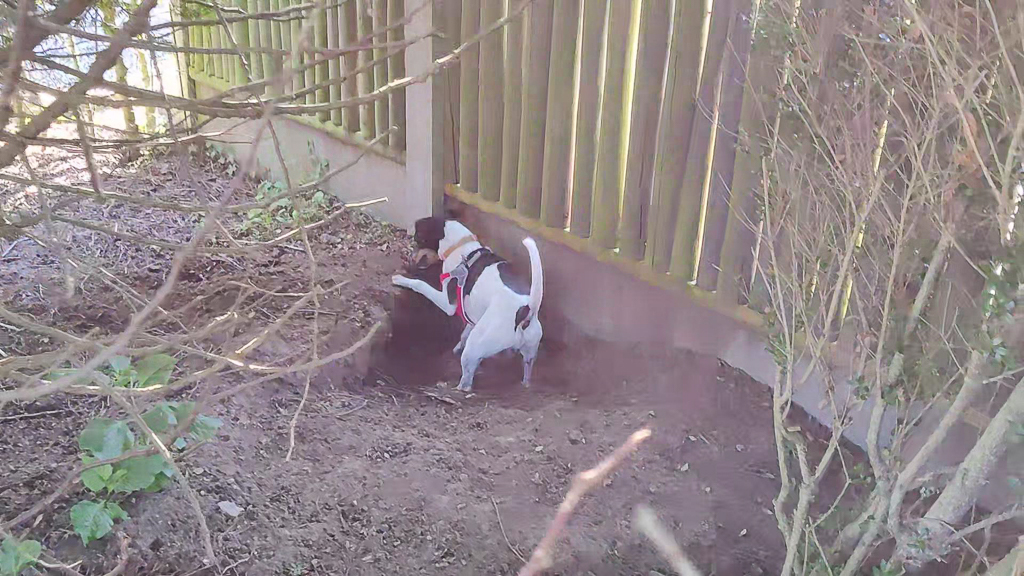Dog: (374, 199, 574, 402)
